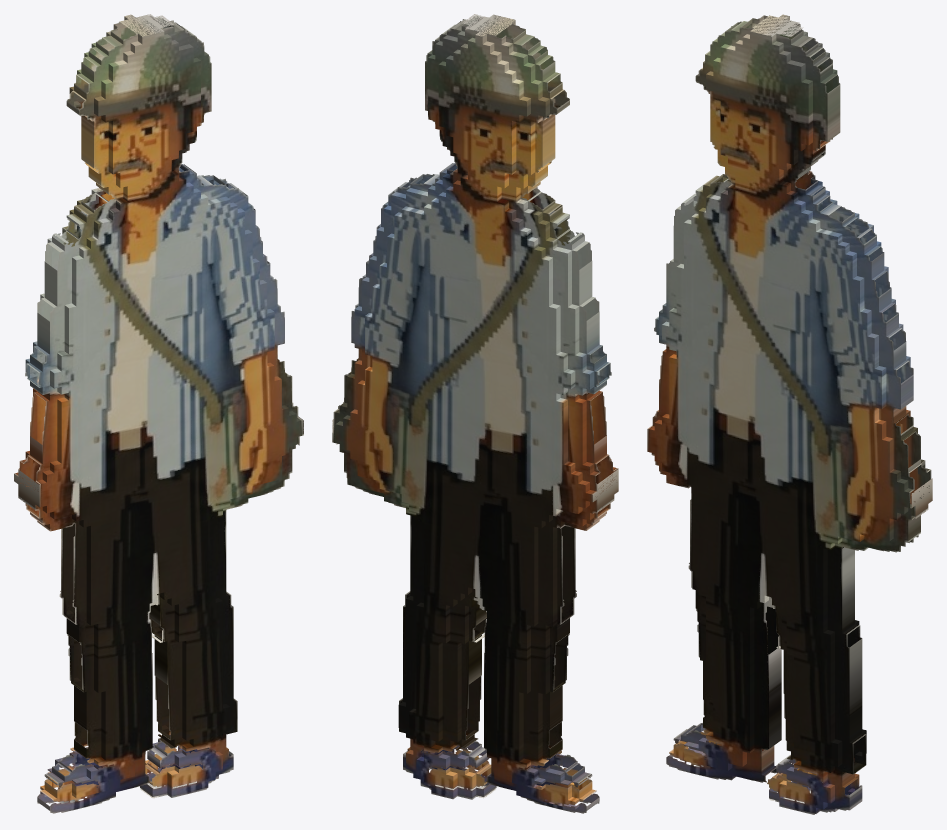
Rendered from char_2.glb.
The picture shows the model from 3 angles, left to right: view 1: azimuth 30°, elevation 25°; view 2: azimuth 150°, elevation 25°; view 3: azimuth 330°, elevation 25°; orthographic projection.
Parts seen in each view (by area): view 1: char_2; view 2: char_2; view 3: char_2.
Part boxes in pixels (x1=…): char_2: x1=14, y1=14, x2=303, y2=813; char_2: x1=332, y1=14, x2=618, y2=813; char_2: x1=647, y1=14, x2=932, y2=814.
Bounding box in the file's own units: 36 × 100 × 6.
Materials: 1 (1 with a texture image).
